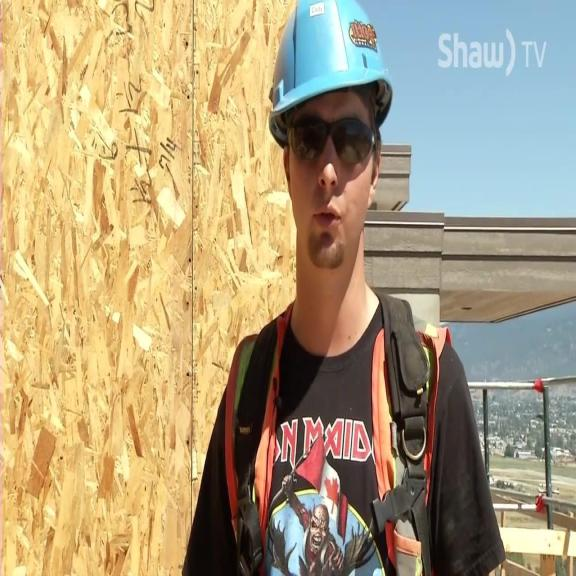safety_vest: (220, 308, 451, 575)
